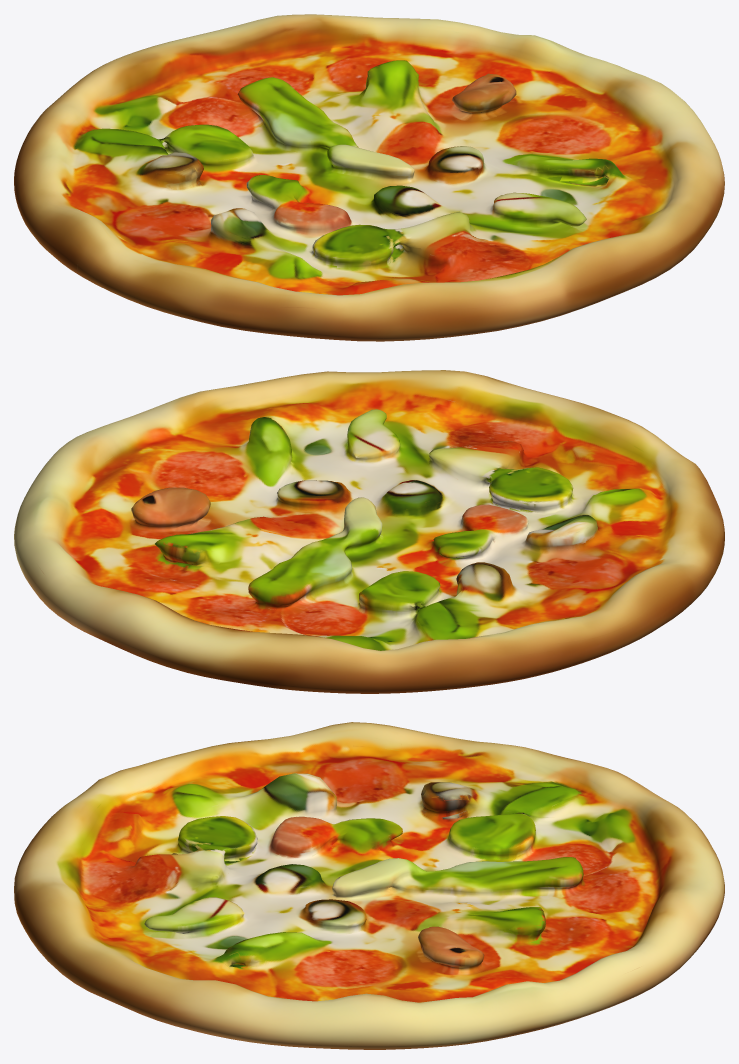
Rendered from hamburguesaModelo.glb.
3 renders of one model, top to bottom at view 1: azimuth 30°, elevation 25°; view 2: azimuth 150°, elevation 25°; view 3: azimuth 270°, elevation 25°, orthographic.
Visible parts, largest first — view 1: model; view 2: model; view 3: model.
Part boxes in pixels (x1=…): model: x1=14, y1=14, x2=724, y2=341; model: x1=14, y1=370, x2=724, y2=693; model: x1=14, y1=722, x2=724, y2=1049.
Size of the model in its own units: 1.9 by 0.1639 by 1.9.
Materials: 1 (1 with a texture image).
